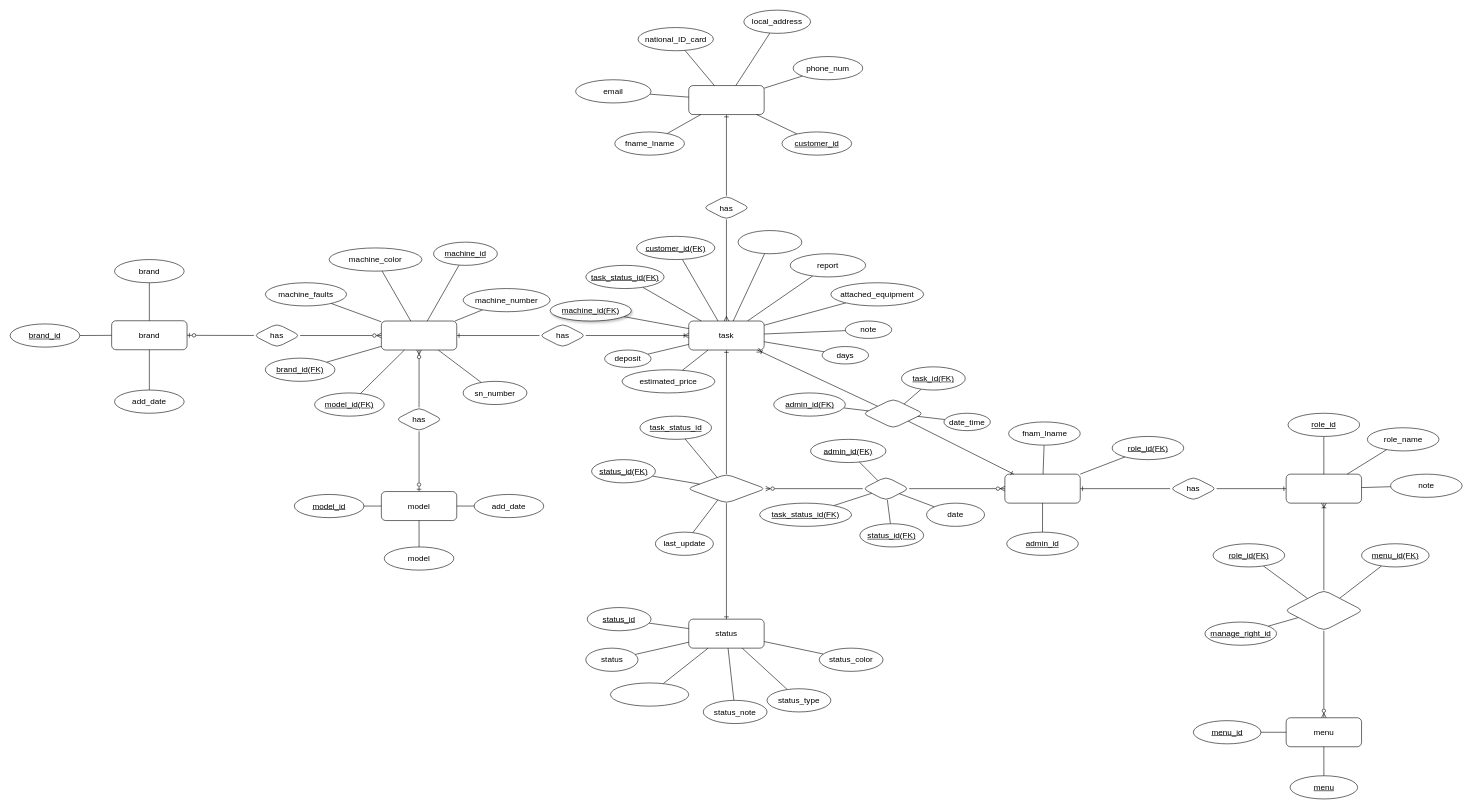
This 1473x809 diagram has some shape labels left out. Here are the shapes that lost their labels. From the top down, the centre of each, then its label:
At (726,100): "customer".
At (769,242): "task_id".
At (419,335): "machine".
At (893,413): "admin_task".
At (726,488): "task_status".
At (885,488): "update".
At (1042,488): "admin".
At (1324,488): "role".
At (1323,610): "manage_right".
At (649,694): "date_add_status".
